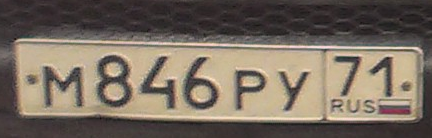character: (136, 54, 179, 110), (93, 53, 135, 110), (180, 52, 221, 110), (42, 62, 87, 111), (232, 65, 271, 113), (277, 67, 312, 114), (330, 53, 365, 99), (368, 55, 398, 98)
